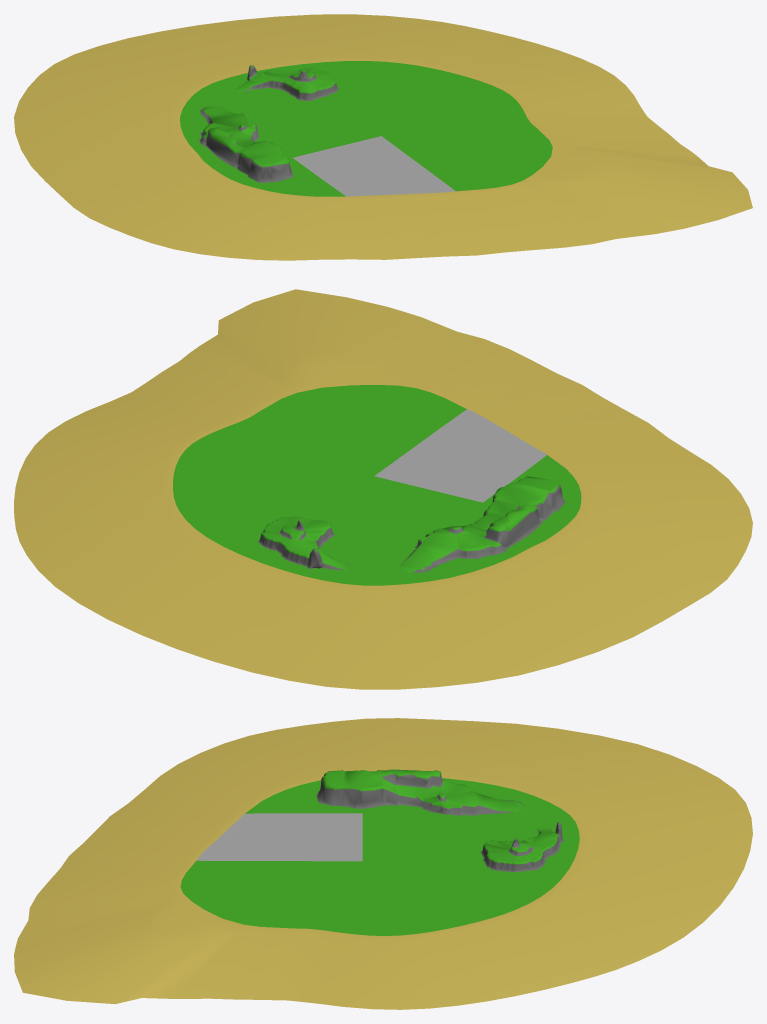
Rendered from ground.obj.
3 renders of one model, top to bottom at view 1: azimuth 30°, elevation 25°; view 2: azimuth 150°, elevation 25°; view 3: azimuth 270°, elevation 25°, orthographic. The views are drawn at different scales.
Parts seen in each view (by area): view 1: ground; view 2: ground; view 3: ground.
Part boxes in pixels (box(x1,y1,x2,y2)): ground: box(14, 14, 752, 260); ground: box(14, 289, 752, 689); ground: box(14, 718, 752, 1009).
Size of the model in its own units: 1114 by 58.88 by 1193.
